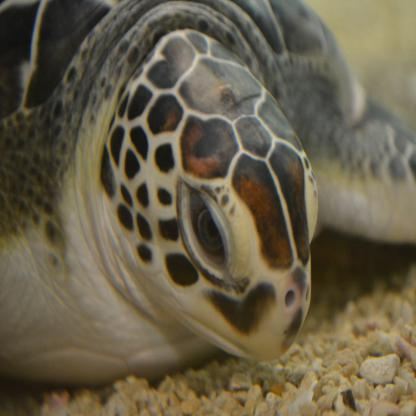turtle: (99, 20, 323, 375)
